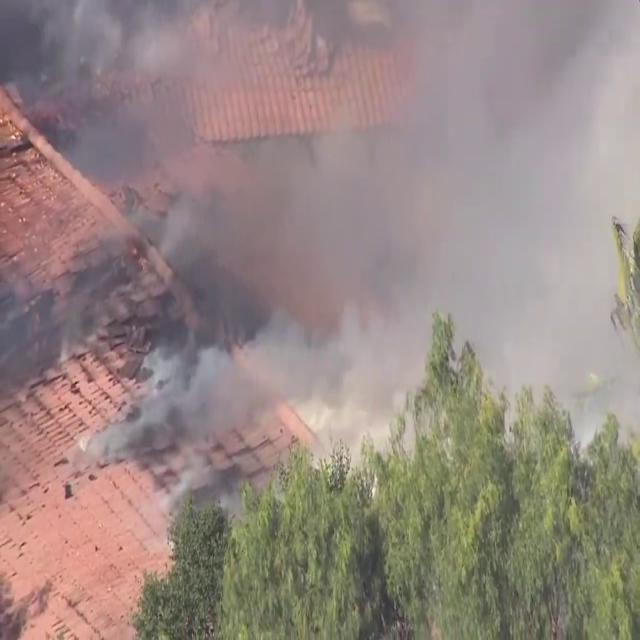Smoke: (25, 0, 637, 511)
